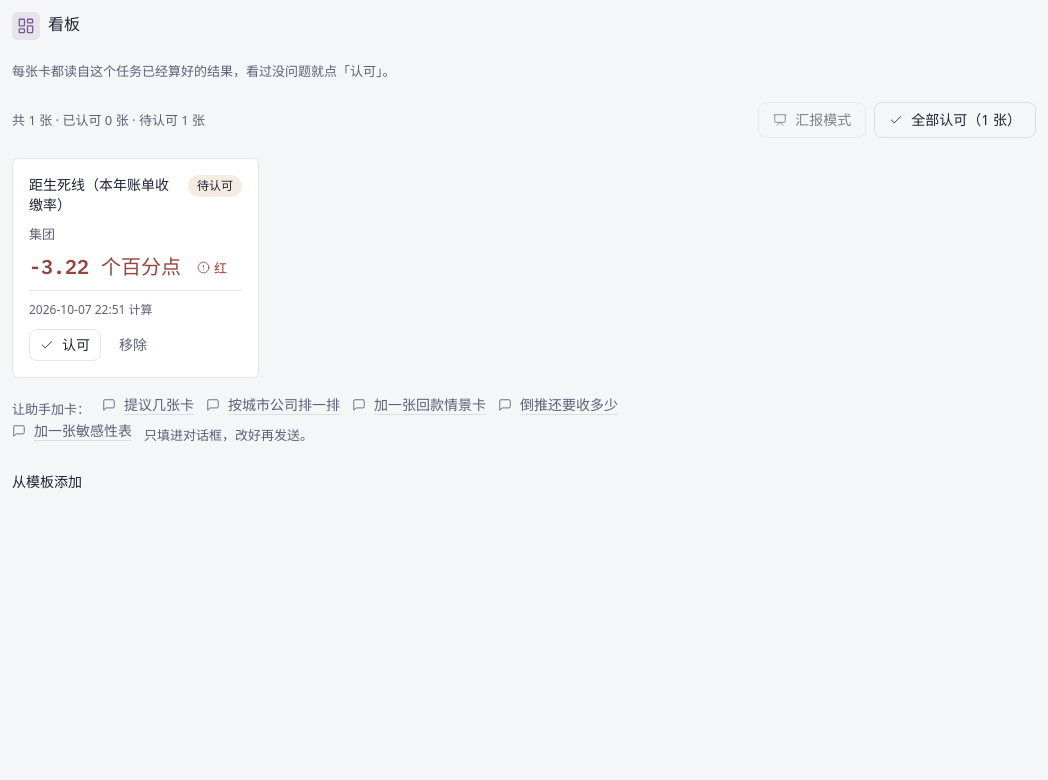
Test case: the board › accepts under the current person's 署名 and says who accepted on the card
This screenshot has width=1048, height=780.
Click the button "认可" at (65, 345), box x1=29 y1=329 x2=101 y2=361
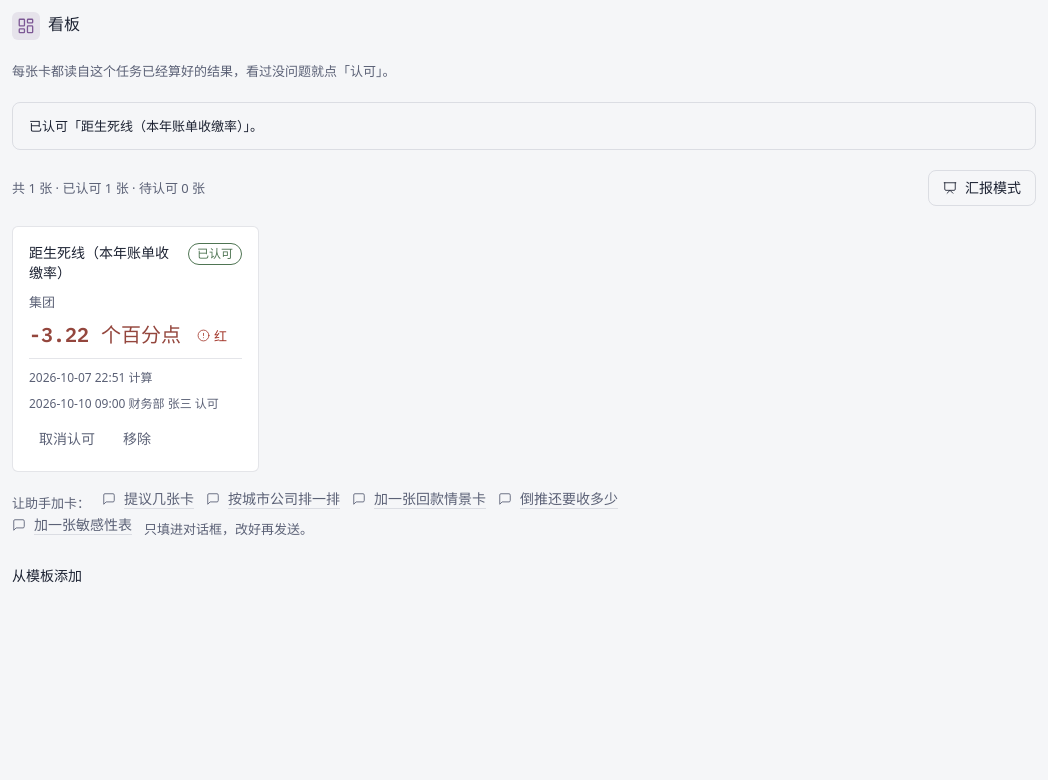
Now the text "2026-10-10 09:00 财务部 张三 认可" is shown, box x1=29 y1=393 x2=219 y2=415
